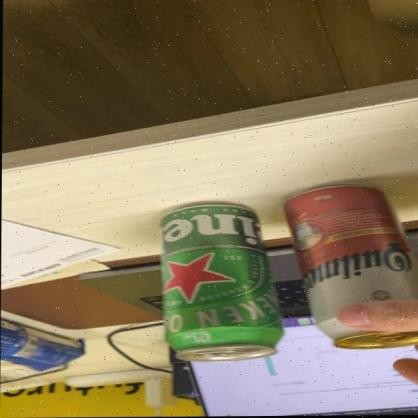can: (284, 185, 418, 356), (160, 206, 285, 359)
